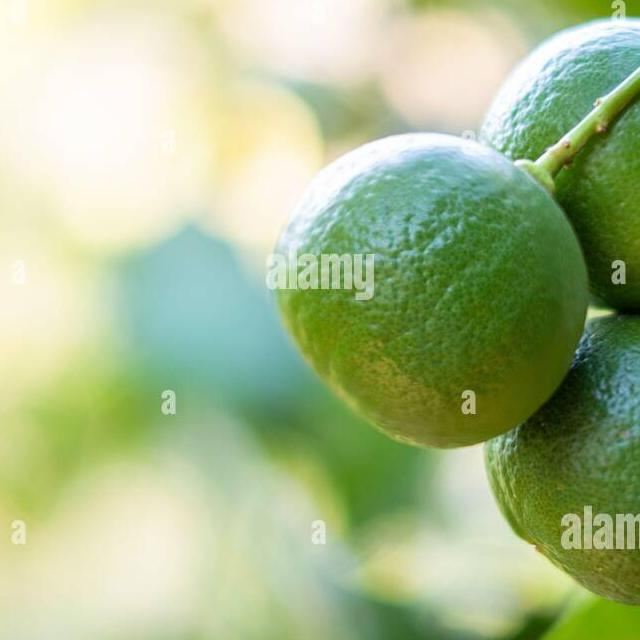lime: (268, 134, 590, 455), (482, 18, 640, 316), (487, 313, 640, 609)
